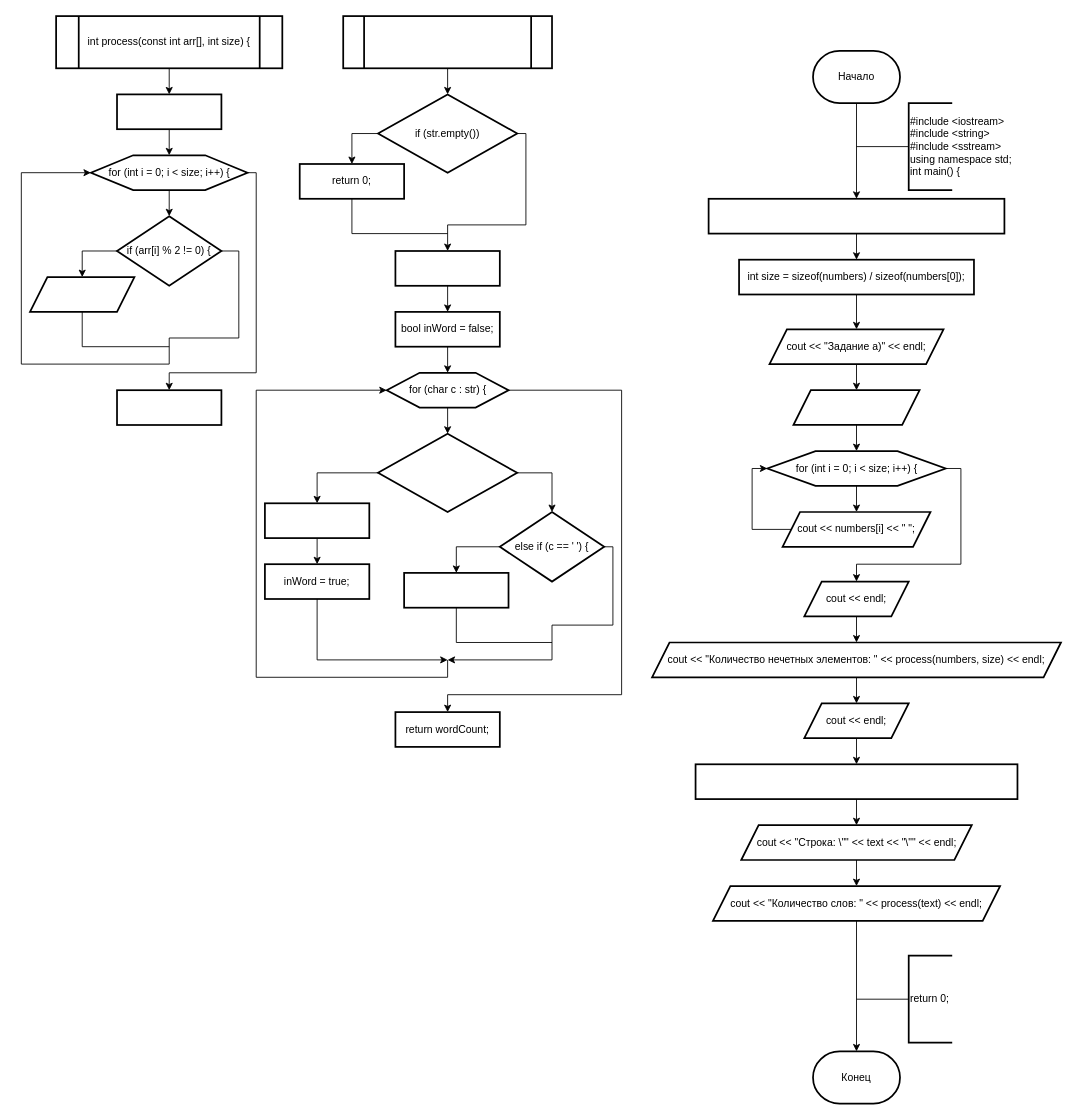
Image size: 1077x1119. Some labels were removed from this diagram. Each missing label, with the centre of its shape:
count++;: the point at 82,294
cout << "Массив: ";: the point at 856,407
if (c != ' ' && !inWord) {: the point at 447,472
int count = 0;: the point at 169,111
int numbers[] = {1, 2, 3, 4, 5, 6, 7, 8, 9, 10, 11, 12, 13, 14, 15};: the point at 856,215
int process(const string& str) {: the point at 447,42
int wordCount = 0;: the point at 447,268
inWord = false;: the point at 456,590
return count;: the point at 169,407
string text = "Это пример строки для подсчета количества слов";: the point at 856,781
wordCount++;: the point at 317,520
